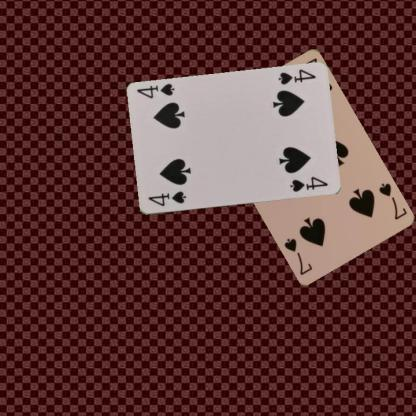4s: (145, 189, 187, 208), (275, 67, 317, 86)
7s: (376, 180, 408, 222)
